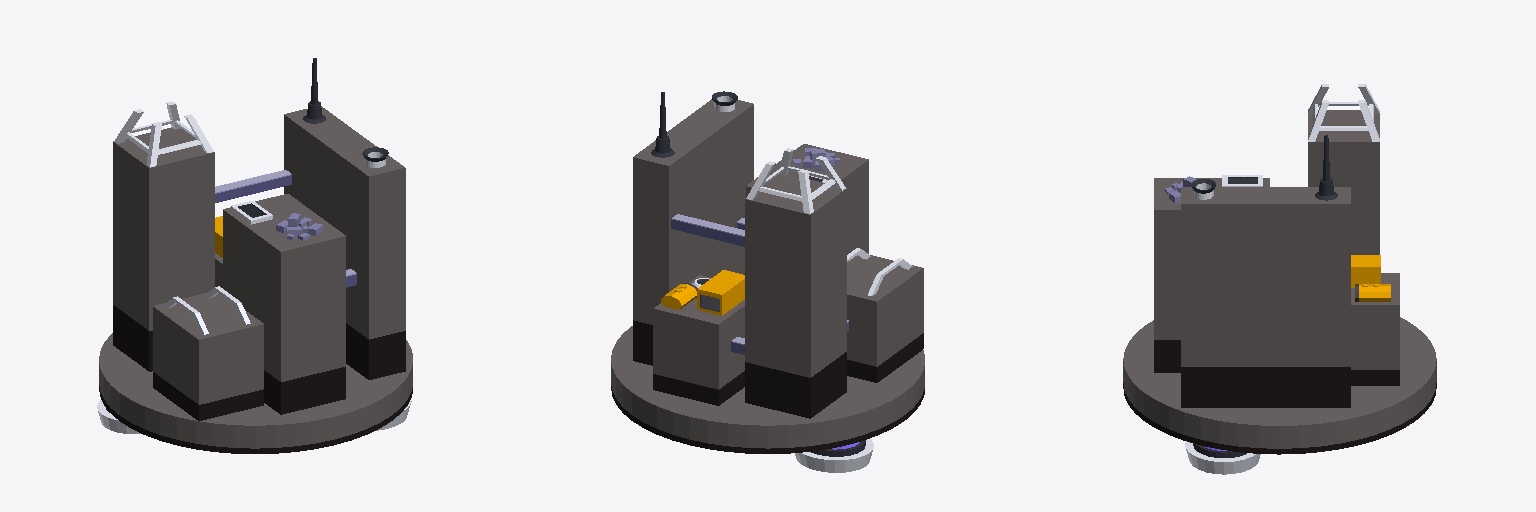
File: housing_piece.obj
3 renders of one model, left to right at view 1: azimuth 30°, elevation 25°; view 2: azimuth 150°, elevation 25°; view 3: azimuth 270°, elevation 25°, orthographic.
Parts seen in each view (by area): view 1: mergedBlocks; view 2: mergedBlocks; view 3: mergedBlocks.
Boxes of the visible parts, box(x1,y1,x2,y2) form: mergedBlocks: box(97, 58, 412, 453); mergedBlocks: box(611, 91, 924, 472); mergedBlocks: box(1123, 84, 1436, 474).
Bounding box in the file's own units: 2 × 2.25 × 1.99.